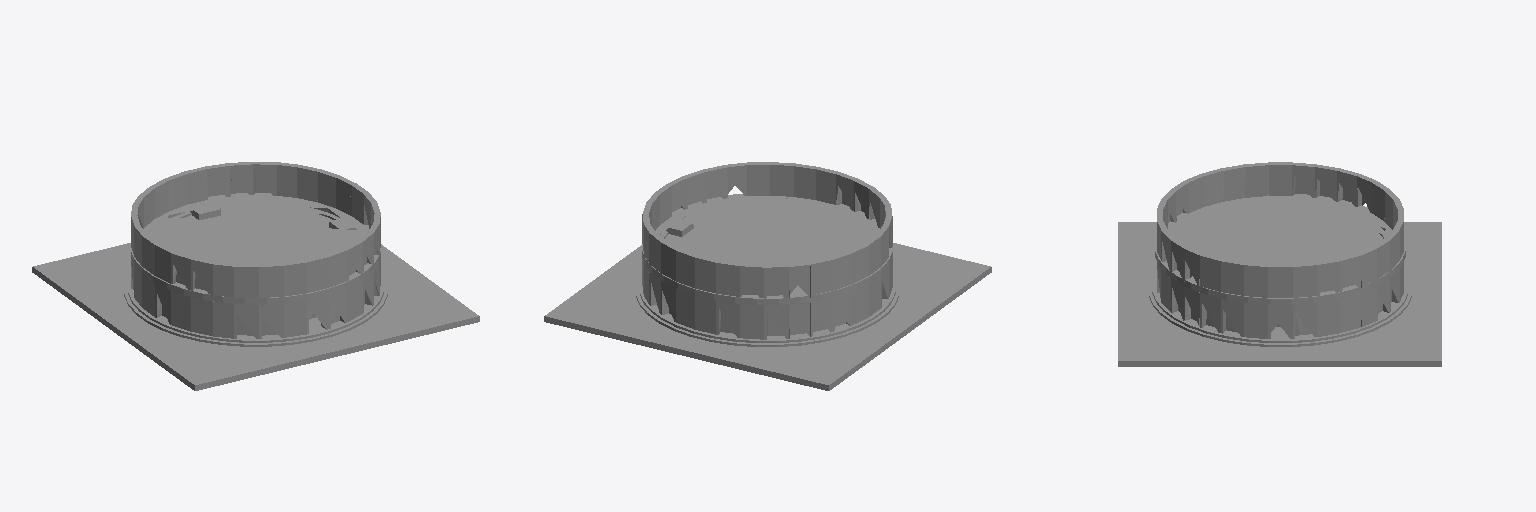
File: free_arena.obj
3 renders of one model, left to right at view 1: azimuth 30°, elevation 25°; view 2: azimuth 150°, elevation 25°; view 3: azimuth 270°, elevation 25°, orthographic.
Parts seen in each view (by area): view 1: Arena_draft.lwo; view 2: Arena_draft.lwo; view 3: Arena_draft.lwo.
Part boxes in pixels (x1,y1,x2,y2): Arena_draft.lwo: (32,162,479,390); Arena_draft.lwo: (544,162,991,390); Arena_draft.lwo: (1118,162,1441,366).
Bounding box in the file's own units: 40.28 × 11.17 × 39.84.